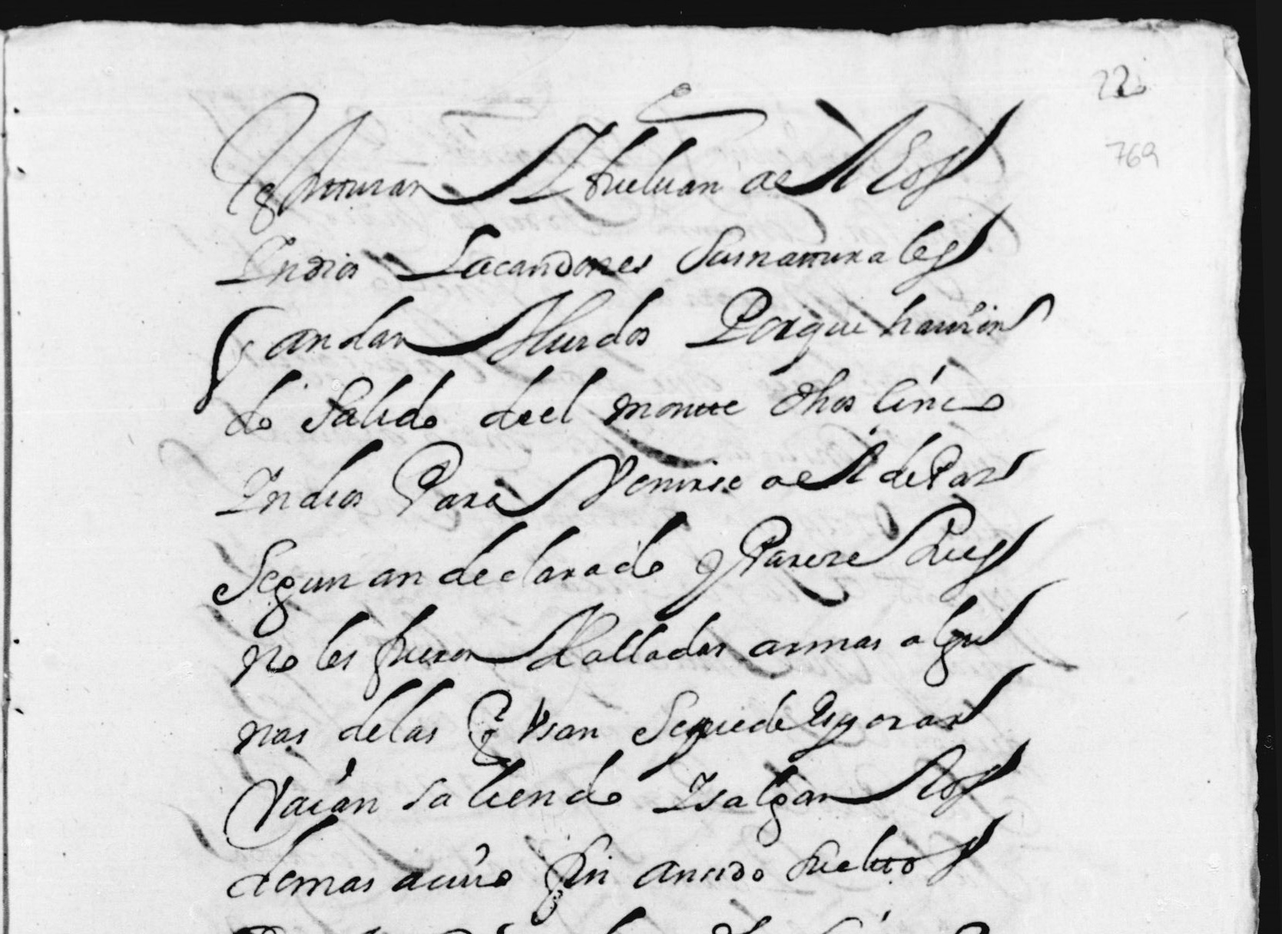lacandon: (396, 224, 652, 281)
